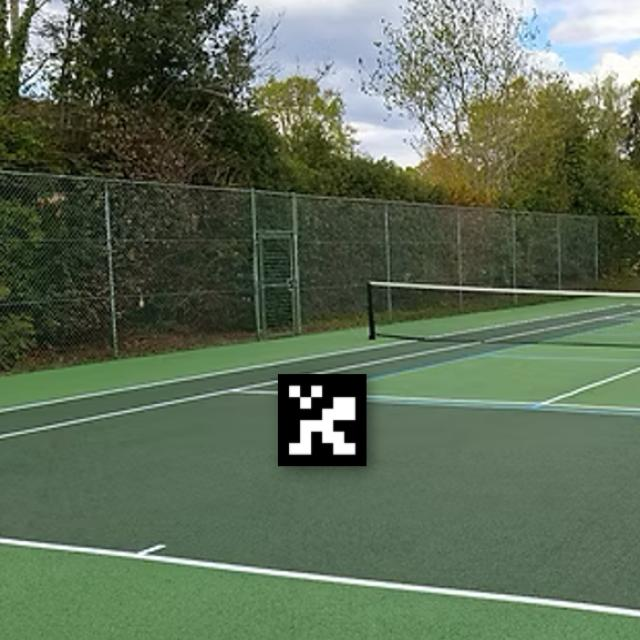marker: (273, 361, 377, 479)
